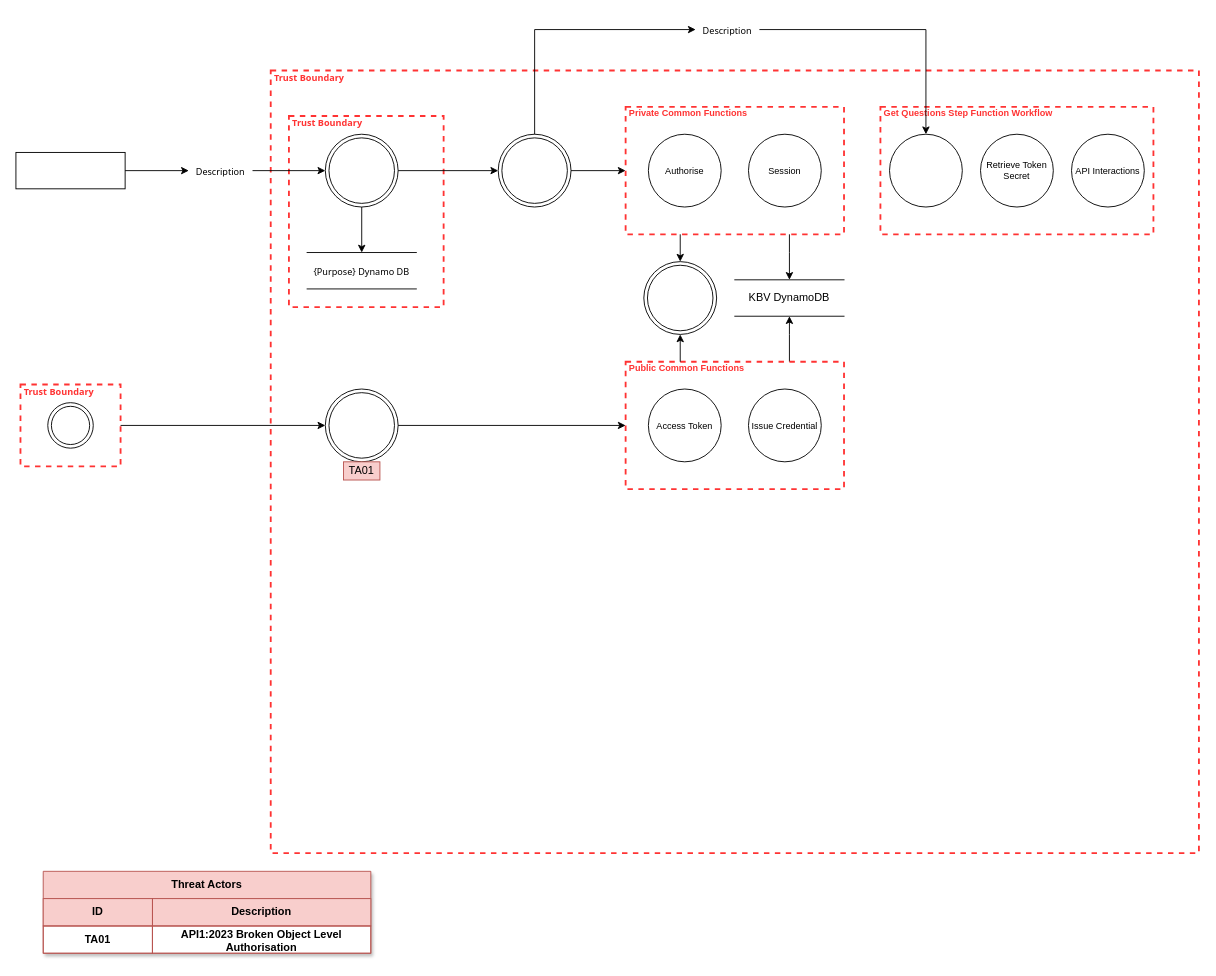
The diagram is 1216 pixels wide and 976 high, and some of its shapes have lost their labels. Here are the shapes that lost their labels. From the top down, the centre of each, then its label:
At (x=70, y=170): "Users".
At (x=361, y=170): "Fargate ECS".
At (x=534, y=170): "Private API Gateway".
At (x=925, y=170): "Post Audit Logs".
At (x=680, y=297): "TXMA Audit Queues".
At (x=70, y=425): "IPV Core".
At (x=361, y=425): "Public API Gateway".
